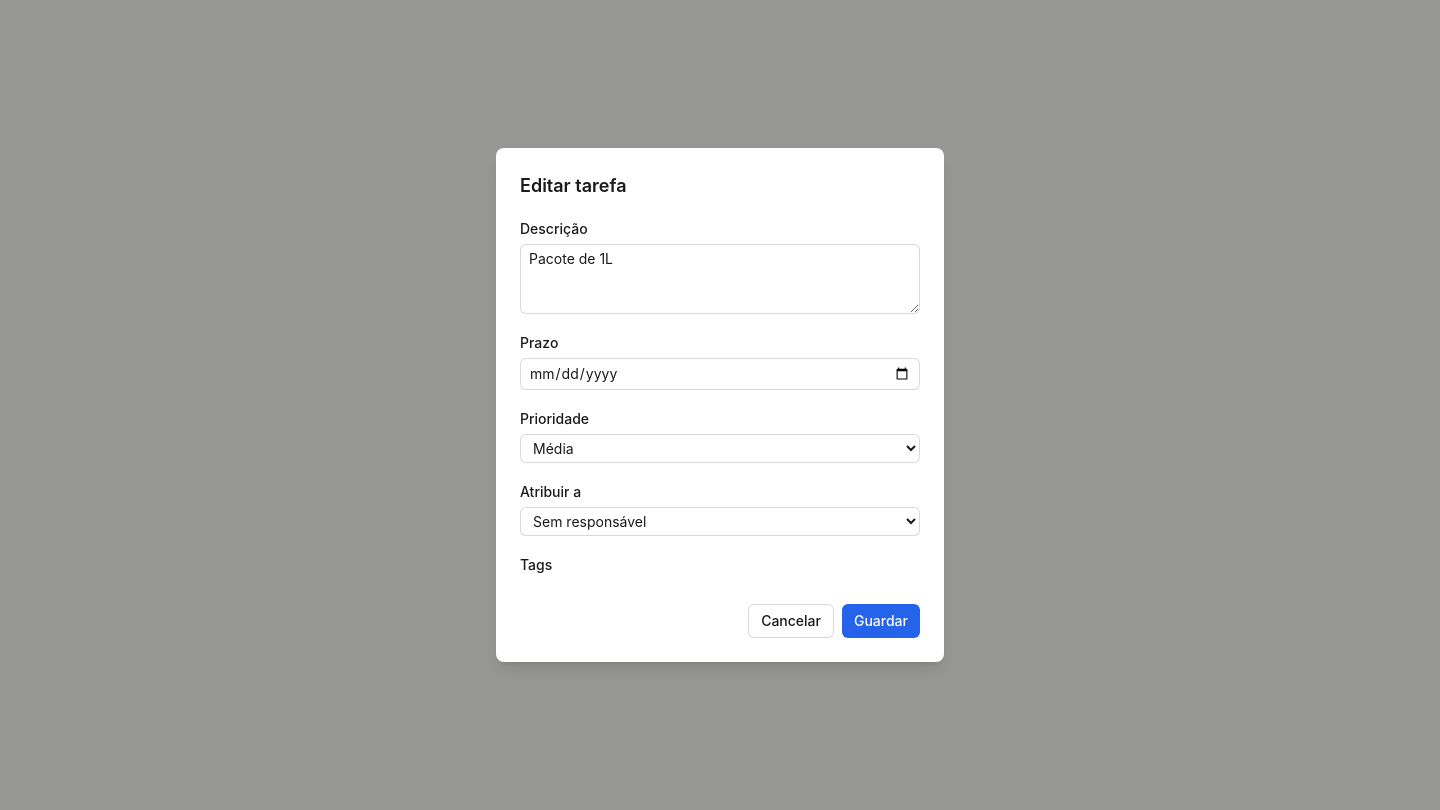
it: <EditTaskModal> › erro do servidor no PATCH mostra alerta e não fecha
The image size is (1440, 810).
Select "Eurico" in the dropdown labelled "Atribuir a": (720, 522) [520, 507, 920, 536]
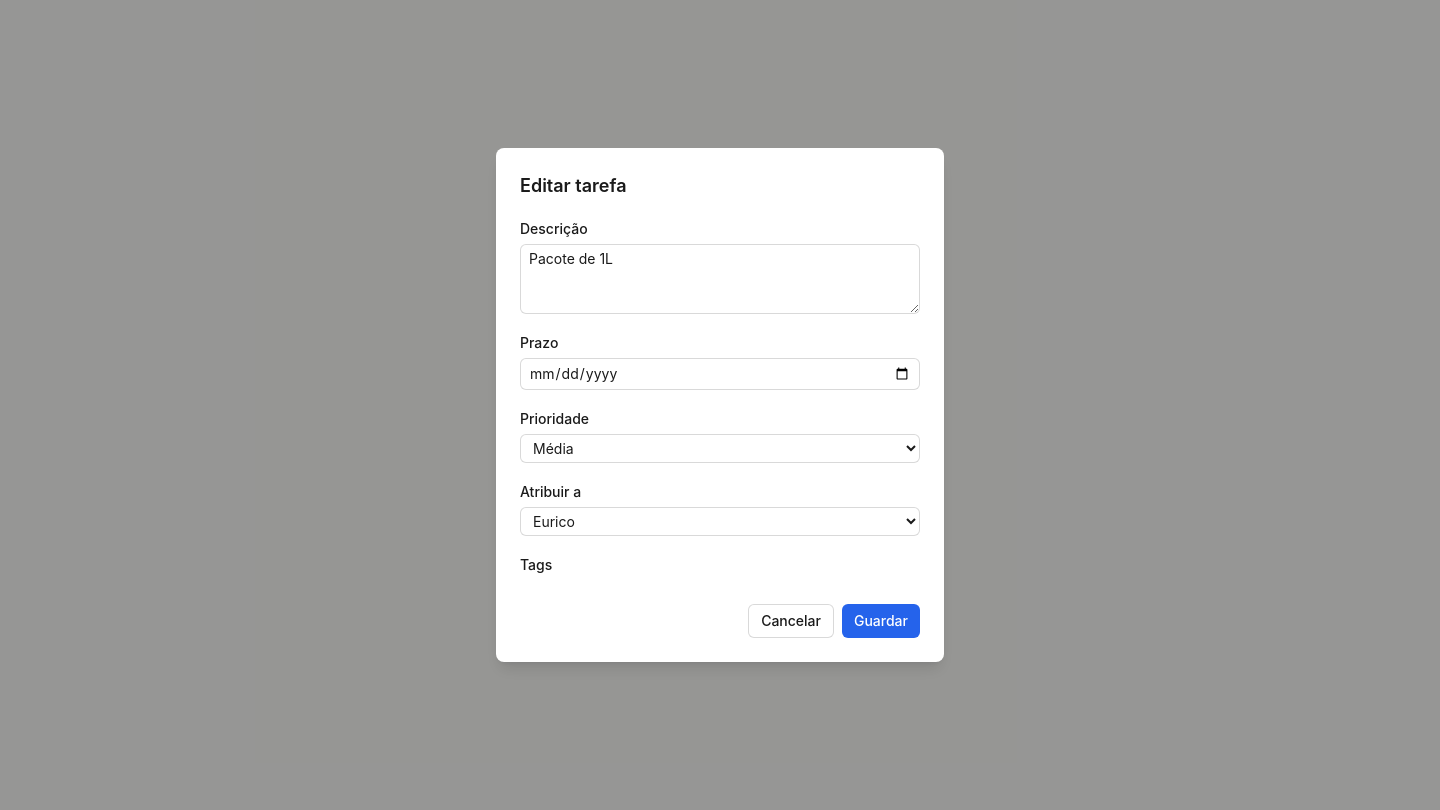
Click the button "Guardar": (881, 621) [842, 604, 920, 638]
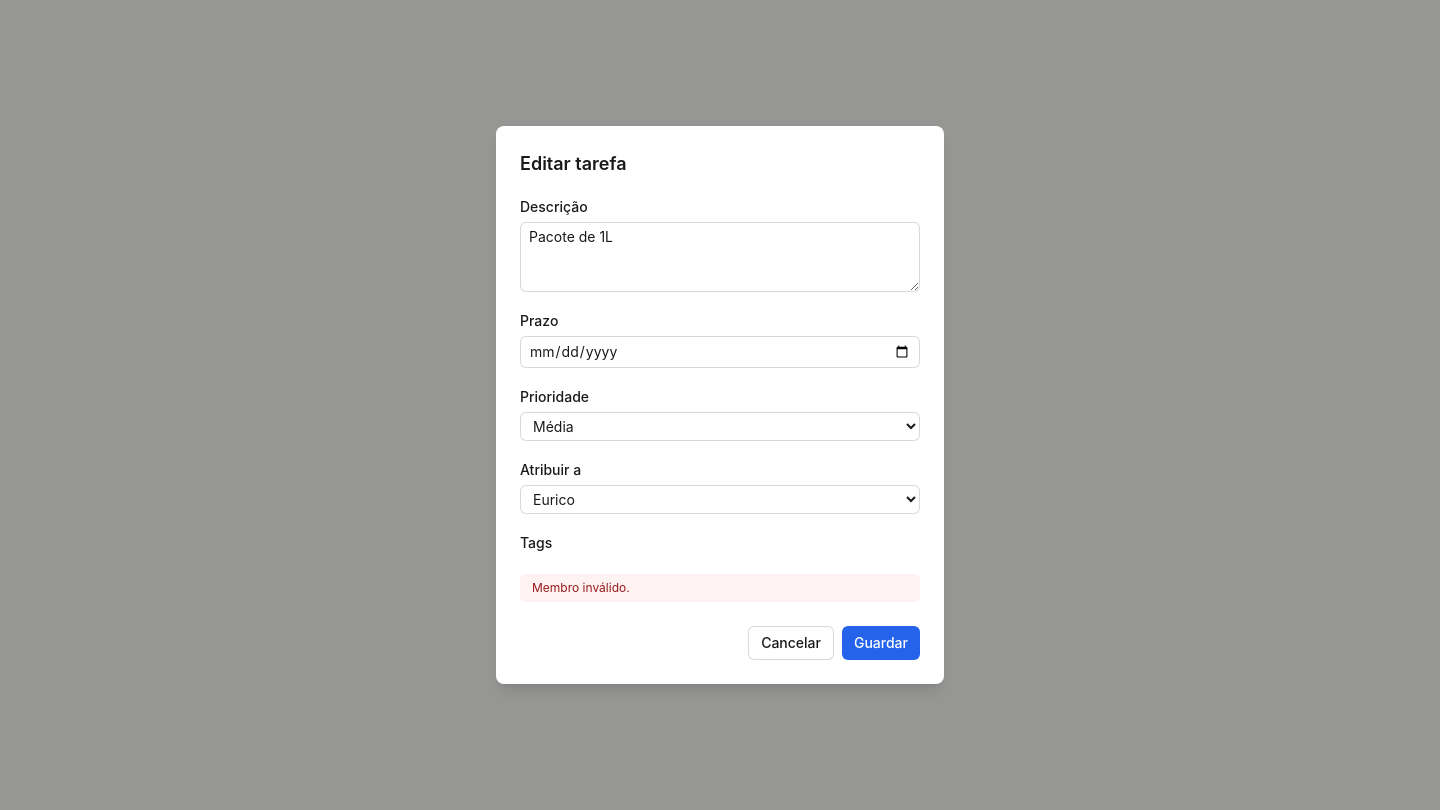
Now the message reads "Membro inválido.", box [532, 580, 630, 595]
